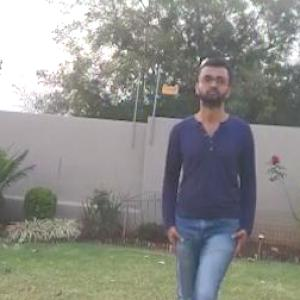follow: (152, 34, 266, 299)
